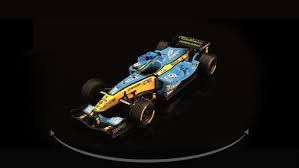f1_car: (64, 31, 227, 145)
